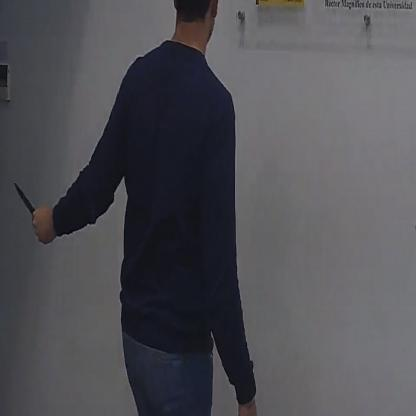knife: (10, 172, 47, 242)
